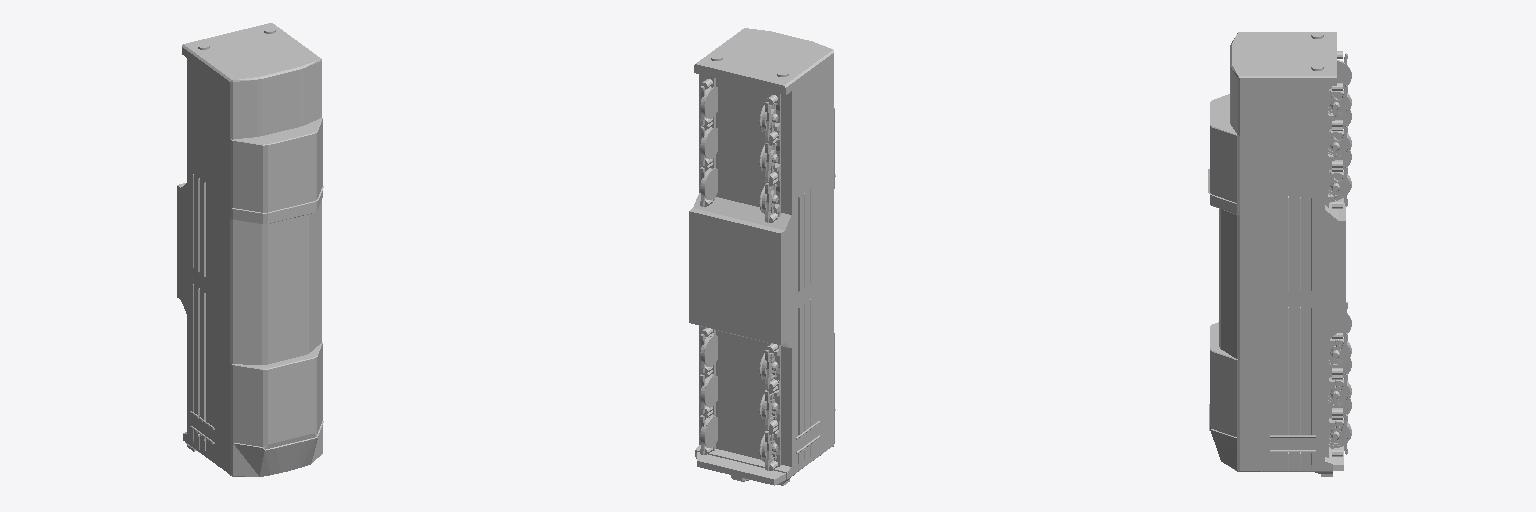
The model's file is train.obj.
The picture shows the model from 3 angles: view 1: azimuth 30°, elevation 25°; view 2: azimuth 150°, elevation 25°; view 3: azimuth 270°, elevation 25°; orthographic projection.
Visible parts, largest first — view 1: engine.001; view 2: engine.001; view 3: engine.001.
Part boxes in pixels (x1,y1,x2,y2): engine.001: (177, 23, 323, 476); engine.001: (689, 28, 835, 485); engine.001: (1208, 32, 1351, 476).
Bounding box in the file's own units: 1.44 × 5.95 × 1.89.